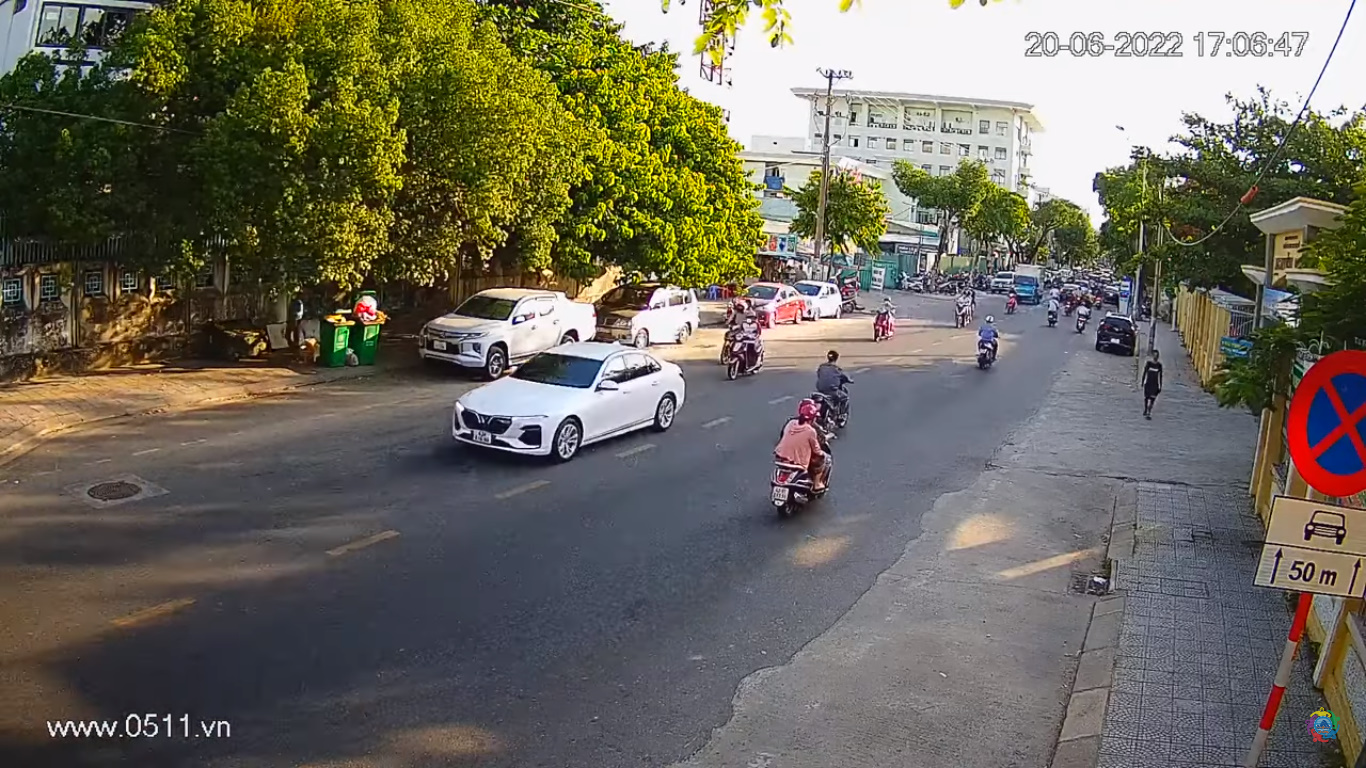car: (447, 335, 689, 468)
